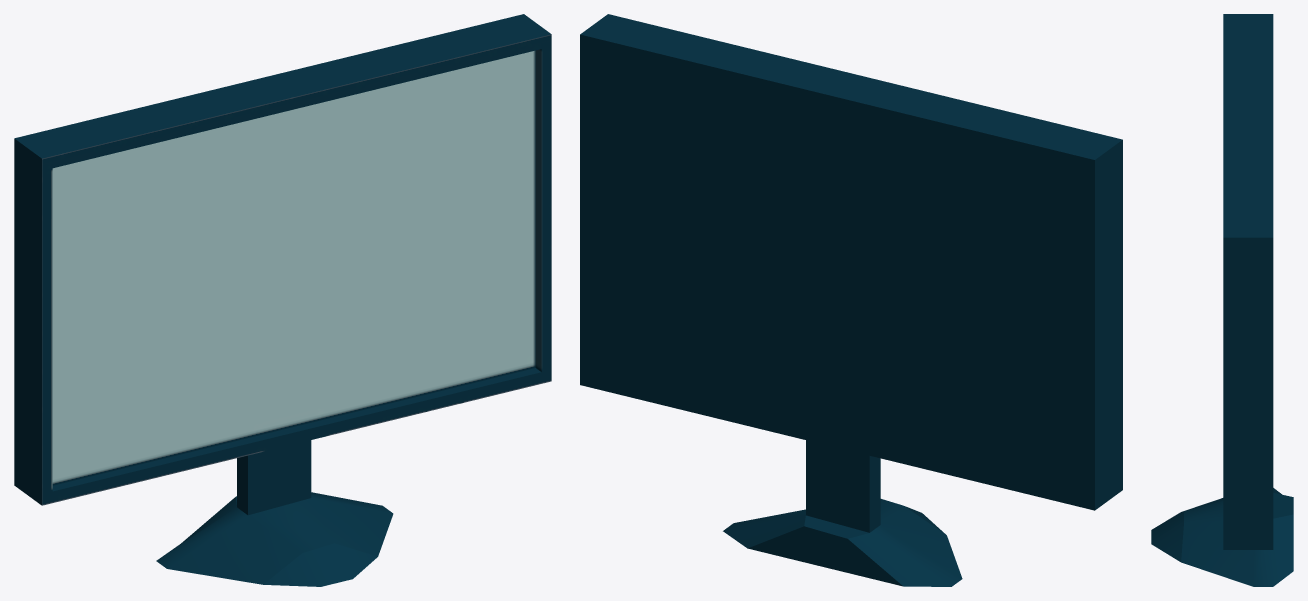
The model's file is MONITOR.obj.
3 views of the same model, side by side, from view 1: azimuth 30°, elevation 25°; view 2: azimuth 150°, elevation 25°; view 3: azimuth 270°, elevation 25° (orthographic). The views are drawn at different scales.
Bounding box in the file's own units: 0.4799 × 0.4114 × 0.1293.
1 material, 1 textured.
